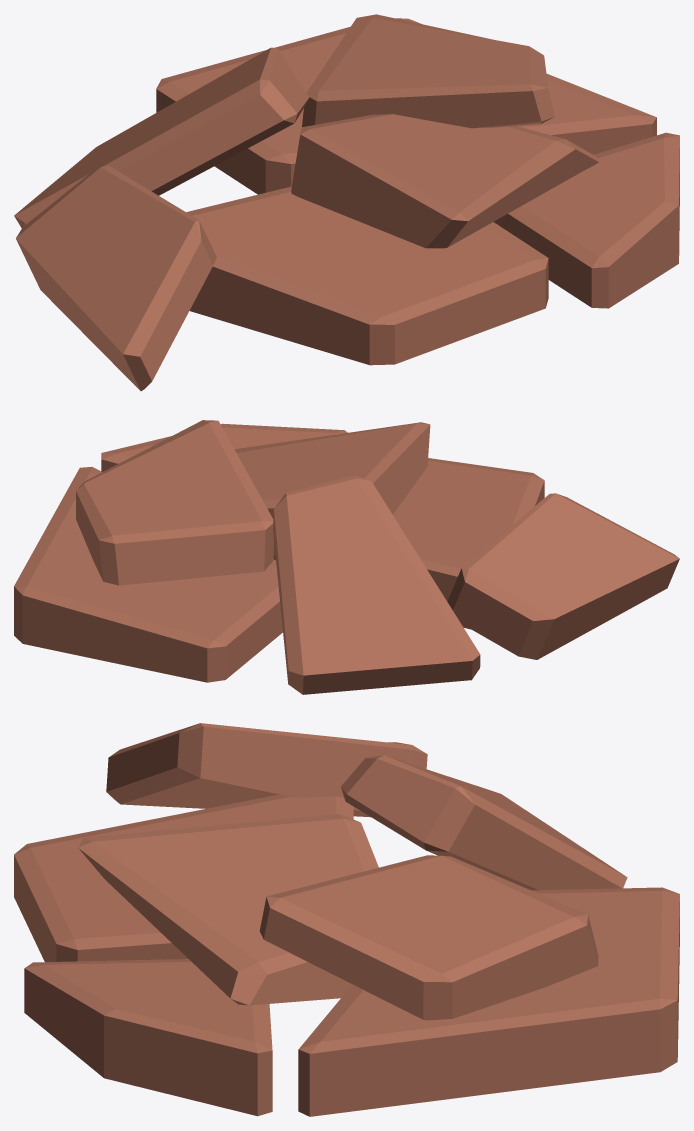
The model's file is CopperOre.gltf.
3 views of the same model, one above another, from view 1: azimuth 30°, elevation 25°; view 2: azimuth 150°, elevation 25°; view 3: azimuth 270°, elevation 25° (orthographic). The views are drawn at different scales.
Visible parts, largest first — view 1: Cube; view 2: Cube; view 3: Cube.
Boxes of the visible parts, x1=… form: Cube: x1=14, y1=14, x2=679, y2=391; Cube: x1=14, y1=420, x2=679, y2=694; Cube: x1=14, y1=723, x2=679, y2=1116.
Size of the model in its own units: 0.7656 by 0.2028 by 0.6602.
